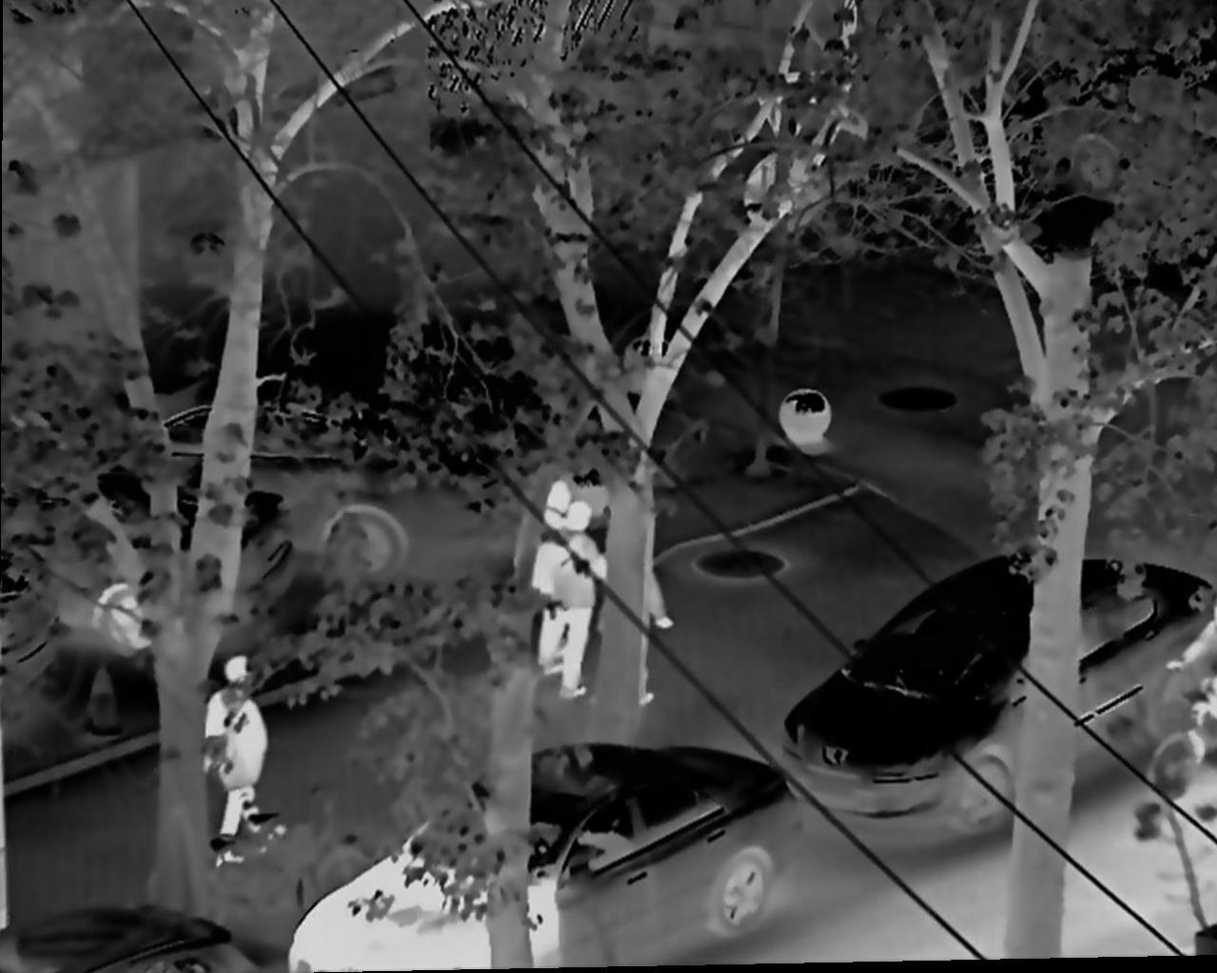person: (208, 656, 274, 833), (553, 503, 601, 692), (533, 477, 567, 680)
